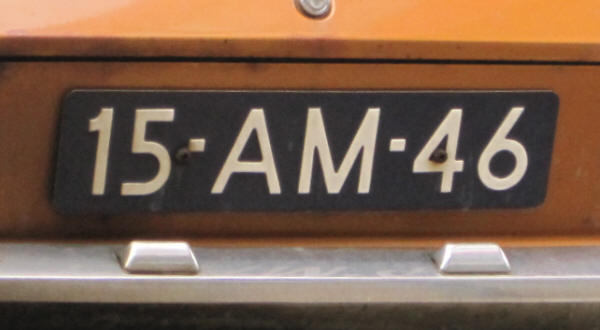license_plate: (50, 88, 561, 219)
